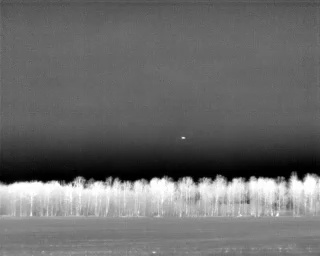DRONE: (178, 132, 188, 143)
